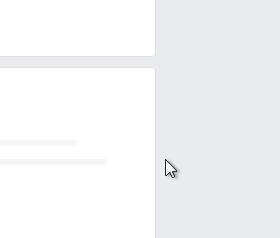cursor: (163, 157, 178, 179)
